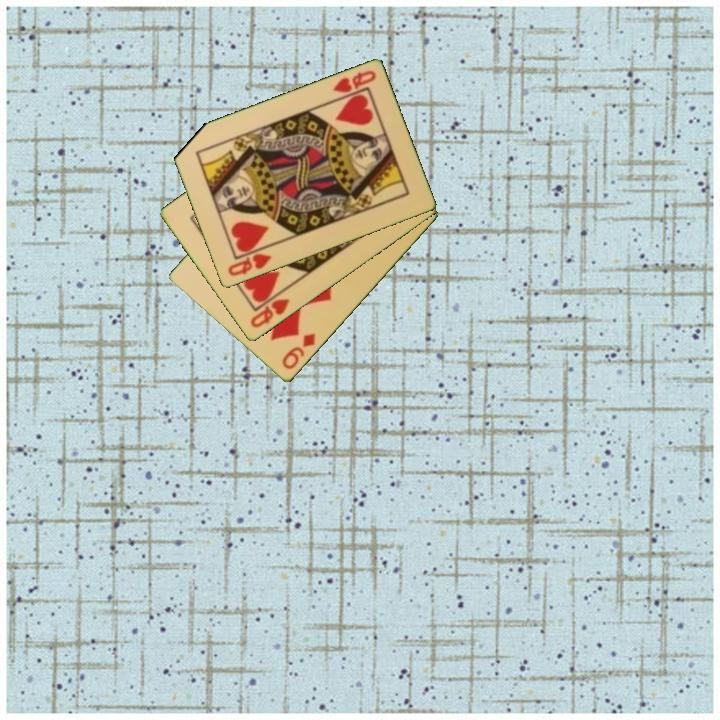9d: (278, 330, 318, 373)
Qh: (247, 295, 292, 331), (224, 250, 274, 279), (329, 67, 379, 96)
